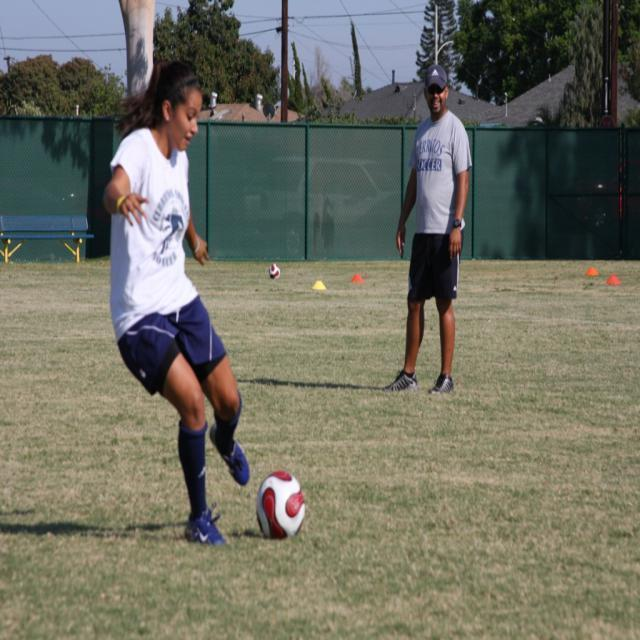ball: (257, 471, 307, 541), (266, 261, 281, 279)
